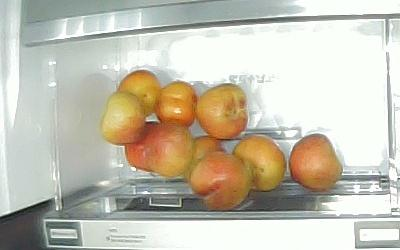prune: (125, 122, 194, 177), (189, 151, 252, 210), (289, 134, 343, 191), (233, 136, 287, 191), (195, 84, 248, 139), (101, 92, 145, 146), (117, 70, 159, 118), (182, 135, 224, 183), (154, 81, 196, 128)
